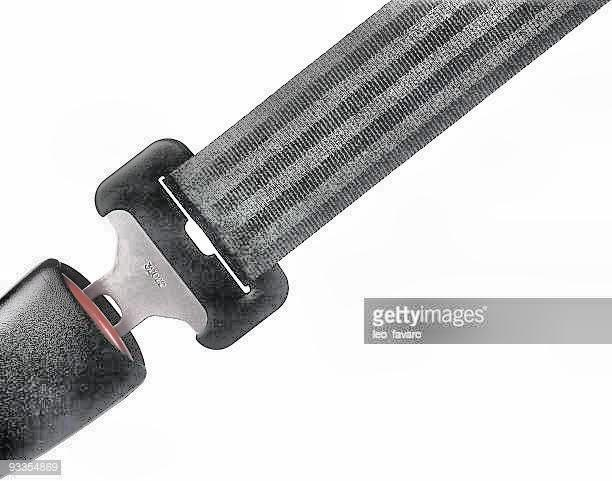seatbelt: (1, 2, 608, 478)
